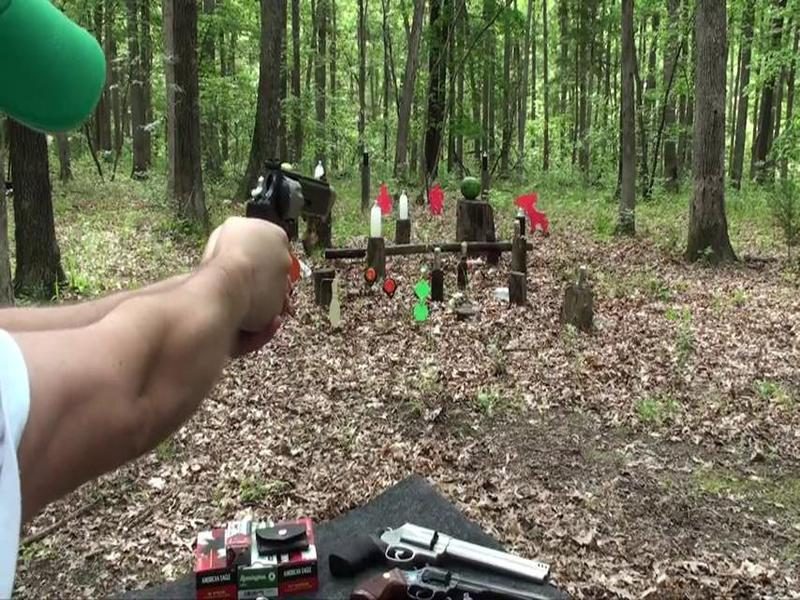Revolver: (243, 135, 340, 271)
